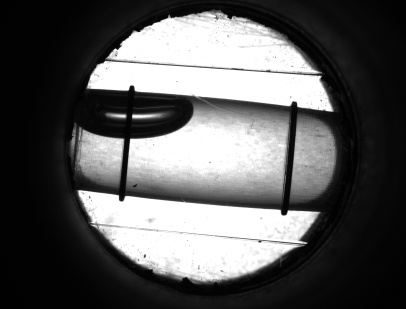line: (279, 120, 301, 197), (117, 145, 133, 184)
